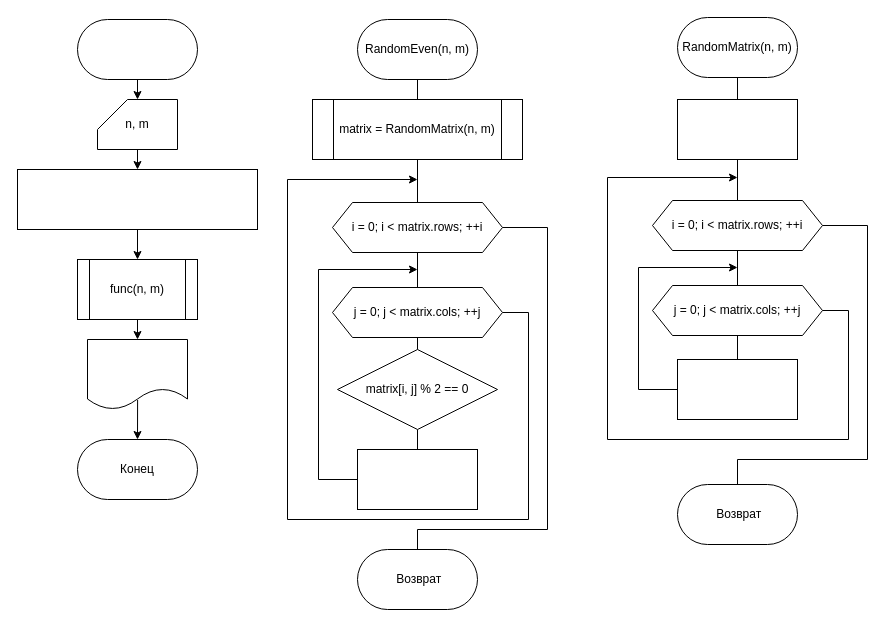
Image size: 886x627. Some labels were removed from this diagram. The centre of each missing label's shape, as x and y in pixels:
Func<int, int, List<int>> func = ReadEven: [137,199]
matrix = [ ]: [737,129]
matrix[i, j] = Rand( ): [737,389]
numbers: [137,374]
result.Add(matrix[i, j]): [417,479]
Начало: [137,49]
